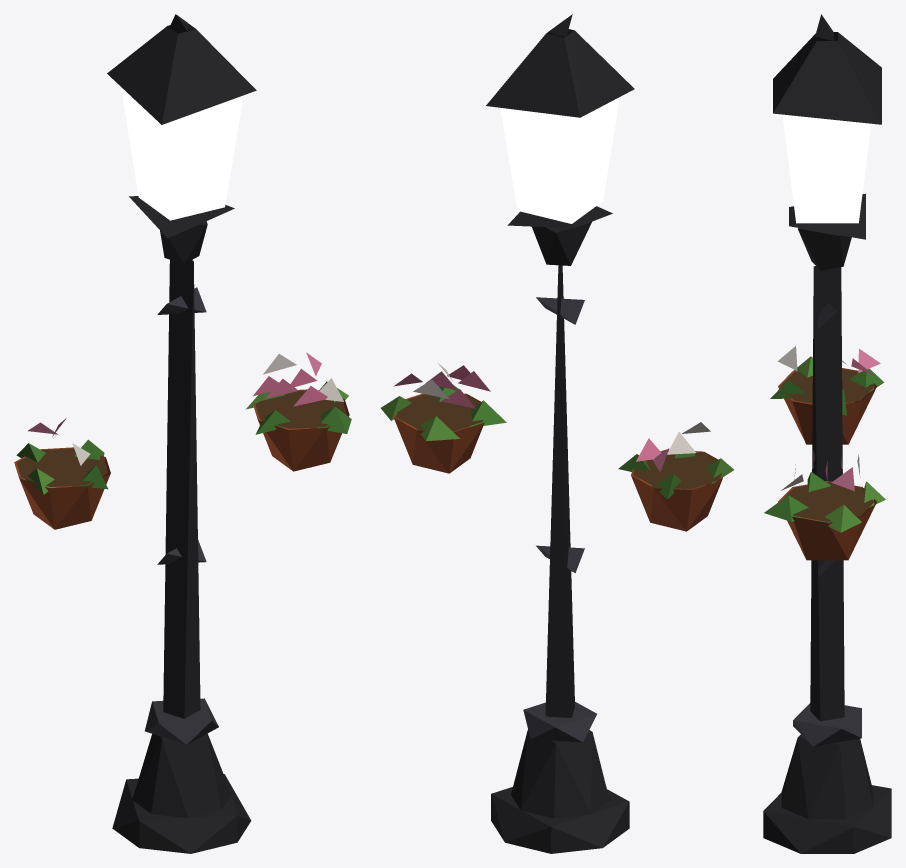
File: town_lamp-lod1.glb
The picture shows the model from 3 angles, left to right: view 1: azimuth 30°, elevation 25°; view 2: azimuth 150°, elevation 25°; view 3: azimuth 270°, elevation 25°; orthographic projection.
Visible parts, largest first — view 1: town_lamp; view 2: town_lamp; view 3: town_lamp.
Part boxes in pixels (<box>): town_lamp: <box>14,14,351,853</box>; town_lamp: <box>381,14,733,853</box>; town_lamp: <box>763,14,891,853</box>.
Size of the model in its own units: 1.55 by 3.59 by 0.5171.
